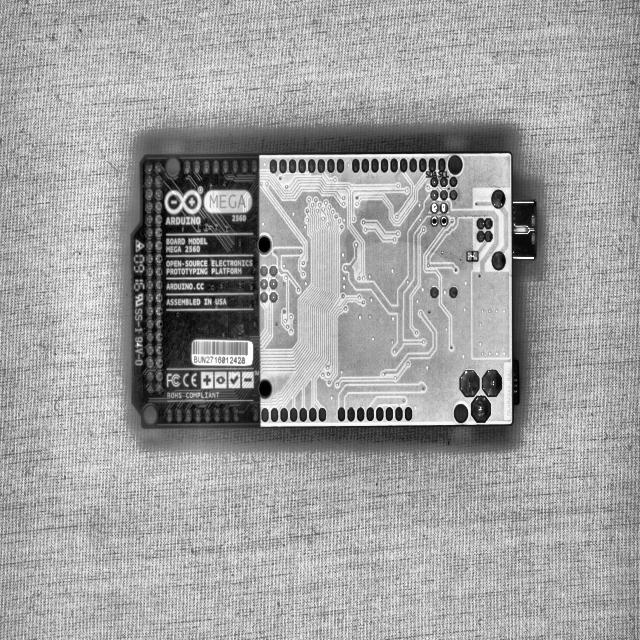PCB: (130, 154, 536, 428)
